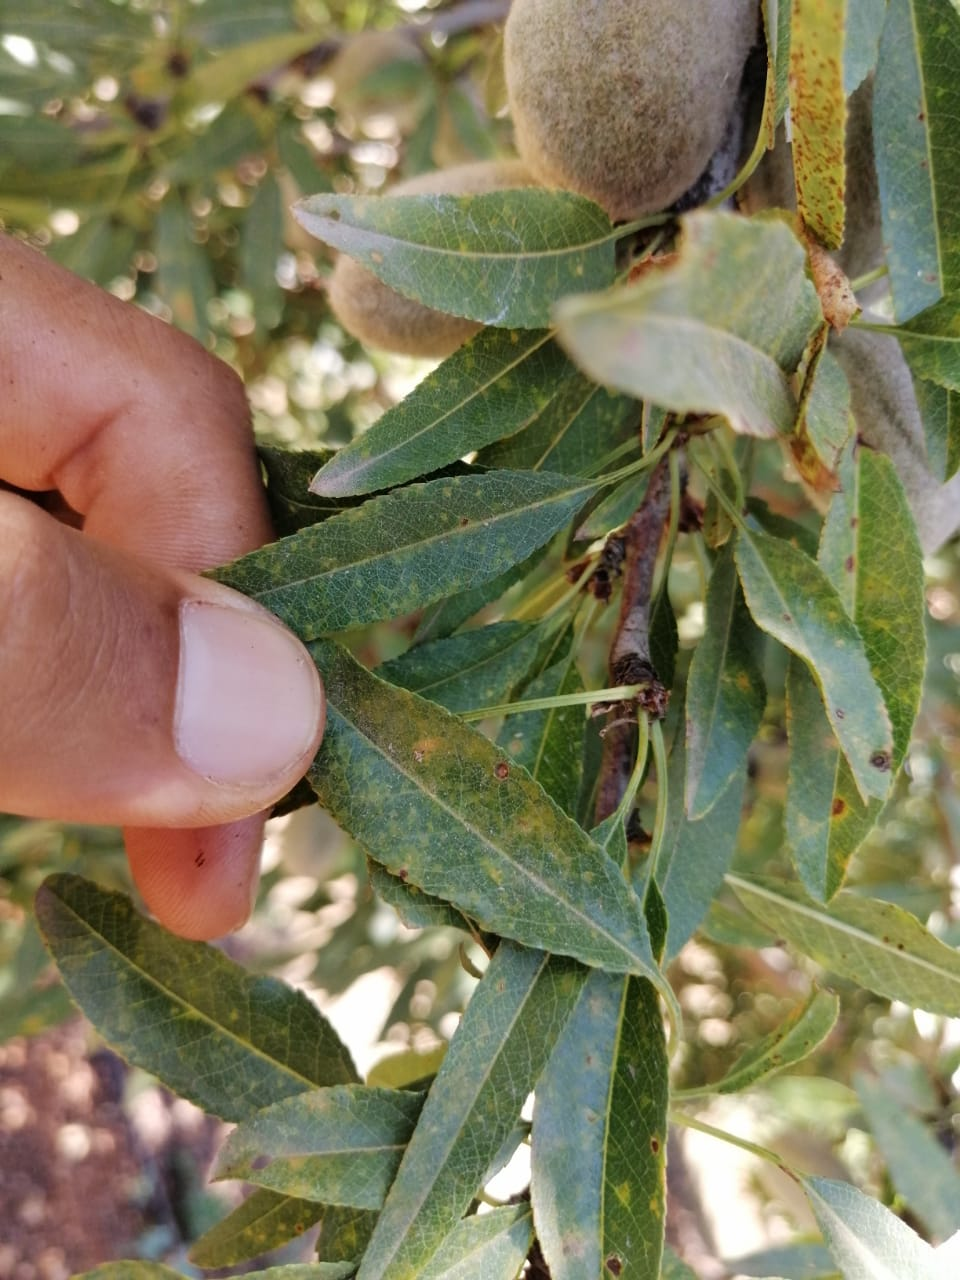rouille: (322, 646, 659, 979), (788, 437, 929, 904), (257, 469, 595, 623), (529, 969, 692, 1280), (734, 513, 895, 815), (284, 184, 618, 330), (725, 868, 960, 1018), (867, 6, 960, 323)
